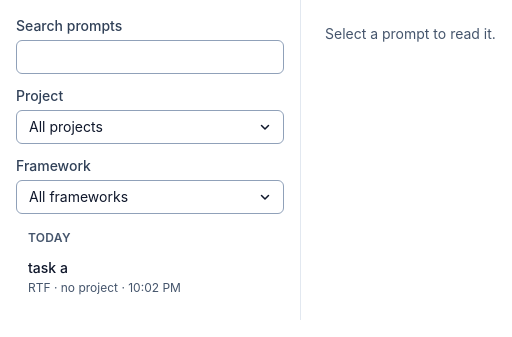
HistoryView list pane › a_failed_reload_hides_the_old_rows_and_retries_the_first_page
Expected: the button "task a RTF · no project · 10:02 PM" is shown, [16,250,284,304]
In the search field labelled "Search prompts": (150, 57) [16,40,284,74], type "zzz"
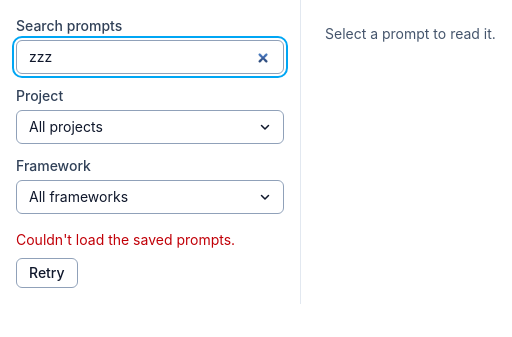
Result: the message shows "Couldn't load the saved prompts." at [16,231,235,248]
Result: the button "task a" is gone
Click the button "Retry": (47, 273) [16,258,78,288]
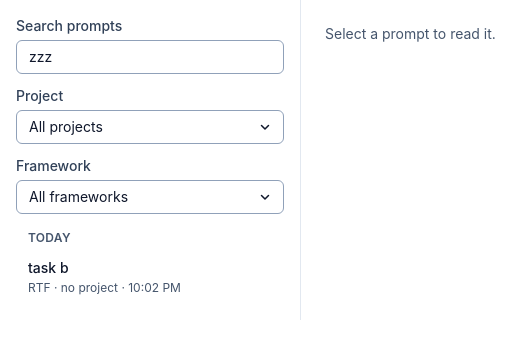
Result: the text "task b" is shown at [28,258,68,278]
